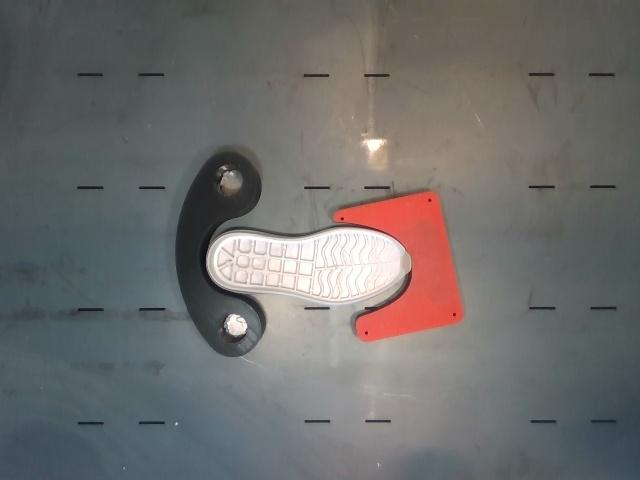shoes: (207, 229, 411, 305)
